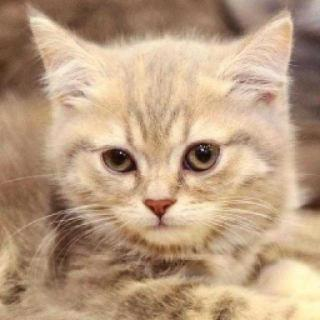cat: (25, 4, 305, 263)
nose: (139, 183, 181, 222)
